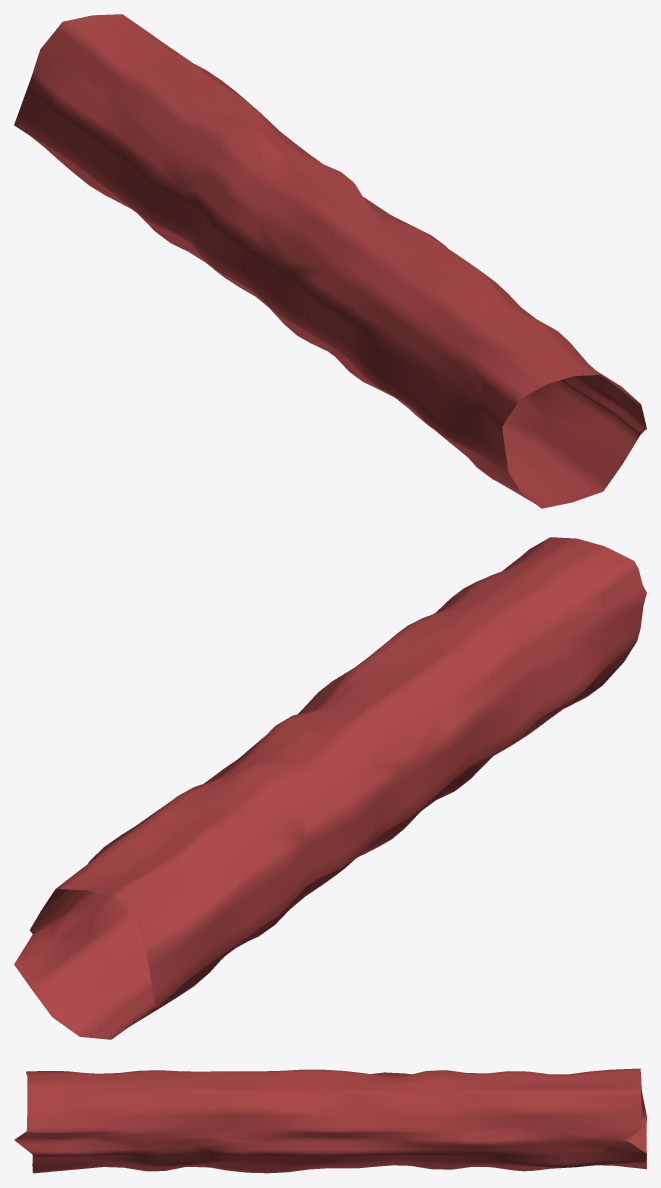
The model's file is EscenarioCobi 1.fbx.
3 views of the same model, one above another, from view 1: azimuth 30°, elevation 25°; view 2: azimuth 150°, elevation 25°; view 3: azimuth 270°, elevation 25° (orthographic). The views are drawn at different scales.
Visible parts, largest first — view 1: pCylinder1; view 2: pCylinder1; view 3: pCylinder1.
Boxes of the visible parts, x1,y1,x2,y2 form: pCylinder1: [14, 14, 646, 508]; pCylinder1: [14, 537, 646, 1039]; pCylinder1: [14, 1068, 646, 1173].
Bounding box in the file's own units: 8.98 × 8.57 × 53.37.
